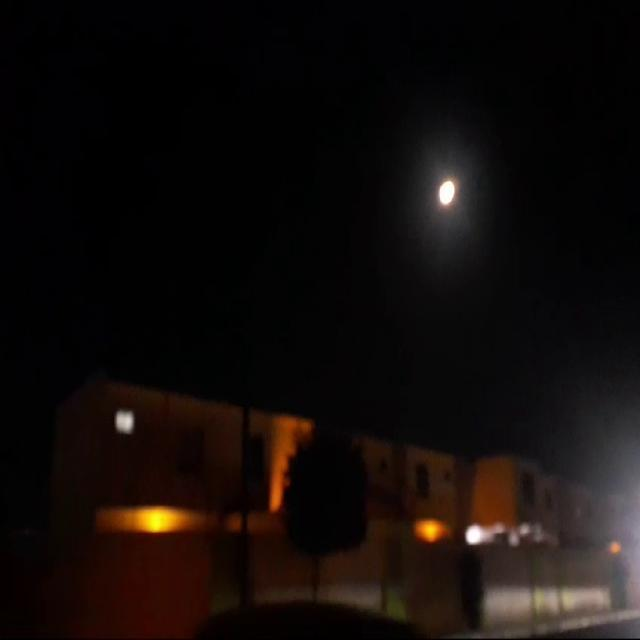moon: (451, 168, 470, 202)
